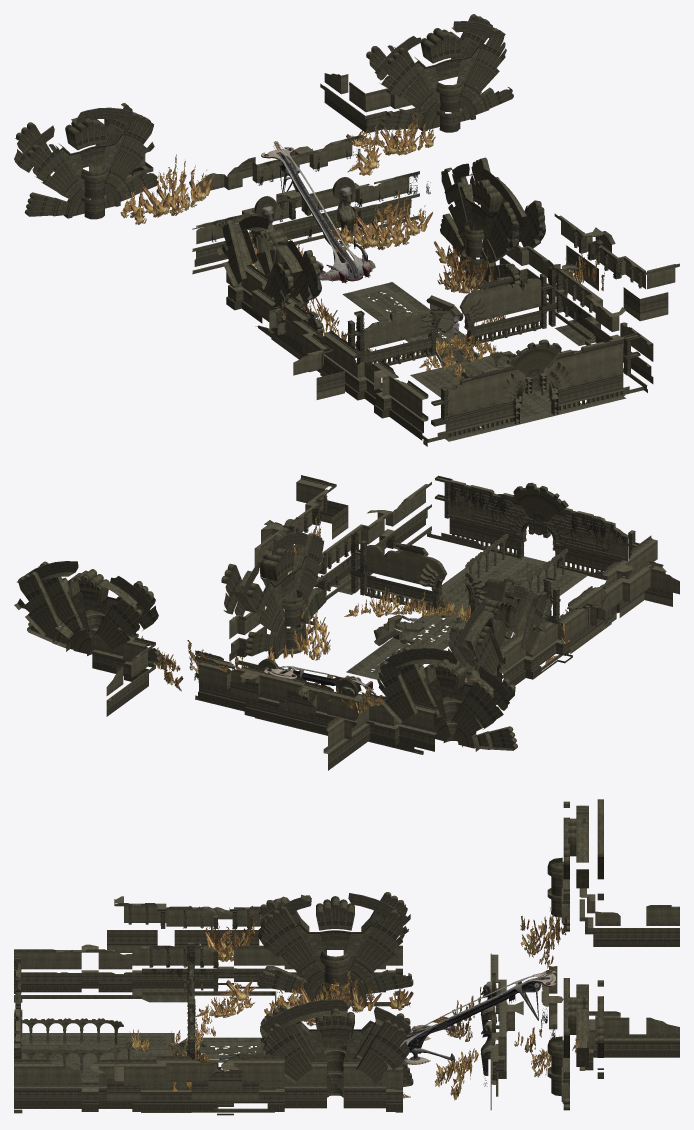
The model's file is map2.fbx.
The picture shows the model from 3 angles, top to bottom: view 1: azimuth 30°, elevation 25°; view 2: azimuth 150°, elevation 25°; view 3: azimuth 270°, elevation 25°; orthographic projection. The views are drawn at different scales.
Parts seen in each view (by area): view 1: 0020_polySurfaceShape340655, 0016_group148Shape, 0033_group768Shape, 0018_polySurfaceShape340640, 0019_kabe1Shape, 0024_garekisShape, 0005_polySurfaceShape341903, 0022_group169Shape, 0004_yukaShape, 0021_polySurfaceShape340653, 0015_archShape, 0031_MShape (+6 smaller); view 2: 0020_polySurfaceShape340655, 0016_group148Shape, 0018_polySurfaceShape340640, 0021_polySurfaceShape340653, 0024_garekisShape, 0019_kabe1Shape, 0005_polySurfaceShape341903, 0033_group768Shape, 0027_garekisShape, 0015_archShape, 0022_group169Shape, 0038_MShape (+3 smaller); view 3: 0016_group148Shape, 0020_polySurfaceShape340655, 0033_group768Shape, 0024_garekisShape, 0005_polySurfaceShape341903, 0001_polySurfaceShape3406497, 0009_yukaShape4, 0003_katapalt3Shape, 0031_MShape, 0014_yukaShape1, 0027_garekisShape, 0004_yukaShape (+4 smaller).
Part boxes in pixels (x1,y1,x2,y2): 0020_polySurfaceShape340655: (14,14,653,438); 0016_group148Shape: (81,73,679,446); 0033_group768Shape: (120,113,604,380); 0018_polySurfaceShape340640: (445,339,623,431); 0019_kabe1Shape: (363,277,541,363); 0024_garekisShape: (255,196,625,394); 0005_polySurfaceShape341903: (410,351,626,441); 0022_group169Shape: (445,362,625,439); 0004_yukaShape: (299,187,375,283); 0021_polySurfaceShape340653: (448,342,623,419); 0015_archShape: (342,282,467,354); 0031_MShape: (251,211,432,267); 0020_polySurfaceShape340655: (14,475,651,770); 0016_group148Shape: (86,475,679,764); 0018_polySurfaceShape340640: (449,481,627,576); 0021_polySurfaceShape340653: (449,486,627,562); 0024_garekisShape: (264,482,628,703); 0019_kabe1Shape: (367,544,533,606); 0005_polySurfaceShape341903: (418,551,588,614); 0033_group768Shape: (141,516,556,714); 0027_garekisShape: (189,483,626,700); 0015_archShape: (346,614,467,680); 0022_group169Shape: (452,507,624,576); 0038_MShape: (267,614,330,662); 0016_group148Shape: (14,862,679,1115); 0020_polySurfaceShape340655: (14,799,679,1110); 0033_group768Shape: (132,907,579,1091); 0024_garekisShape: (16,894,507,1109); 0005_polySurfaceShape341903: (14,1013,174,1082); 0001_polySurfaceShape3406497: (406,968,556,1064); 0009_yukaShape4: (60,1041,136,1073); 0003_katapalt3Shape: (480,973,495,1075); 0031_MShape: (434,995,478,1100); 0014_yukaShape1: (132,988,246,1112); 0027_garekisShape: (149,915,555,1086); 0004_yukaShape: (400,992,493,1062).
Size of what is drawn, in the model's own units: 274 by 83.04 by 315.
